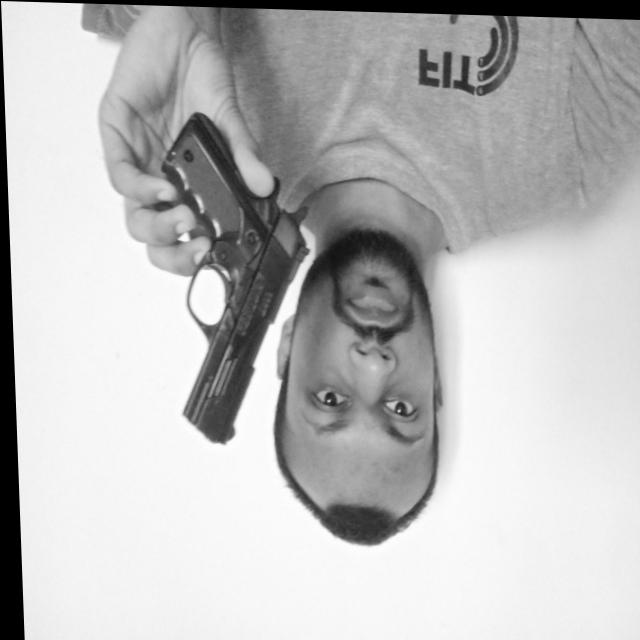handgun: (156, 107, 315, 448)
